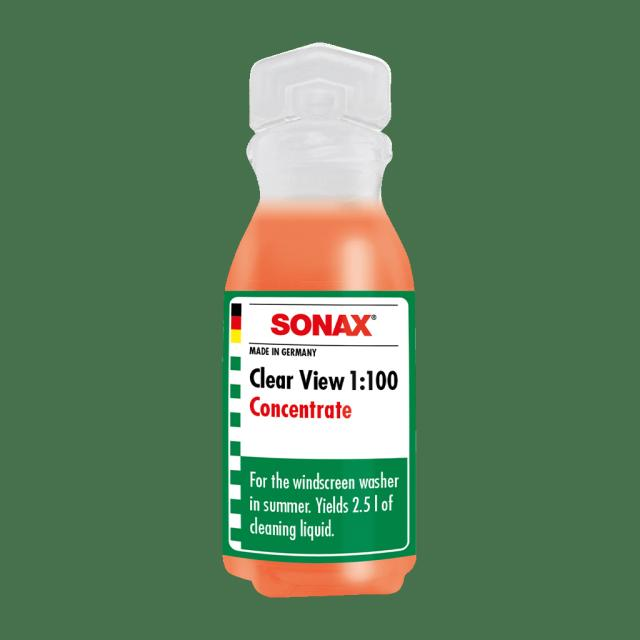winwinshield_washer: (217, 39, 418, 601)
